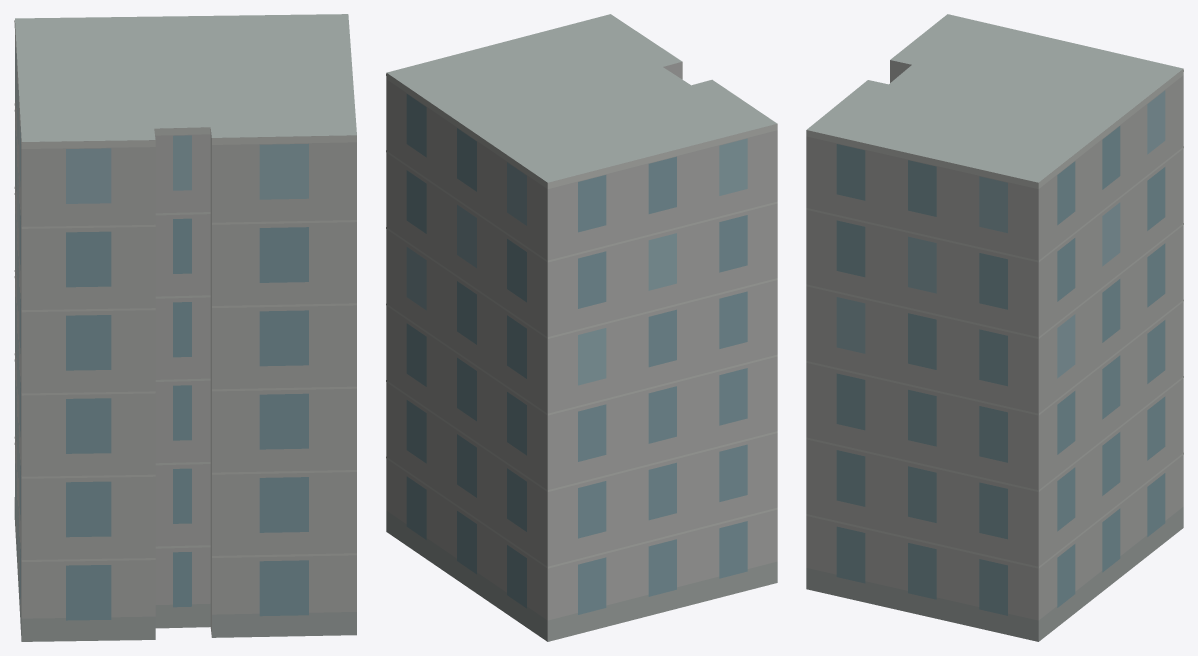
The model's file is survey-upis-32797982.glb.
3 renders of one model, left to right at view 1: azimuth 30°, elevation 25°; view 2: azimuth 150°, elevation 25°; view 3: azimuth 270°, elevation 25°, orthographic. The views are drawn at different scales.
Visible parts, largest first — view 1: survey-upis-32797982.tmp; view 2: survey-upis-32797982.tmp; view 3: survey-upis-32797982.tmp.
Part boxes in pixels (x1,y1,x2,y2): survey-upis-32797982.tmp: (14,14,356,641); survey-upis-32797982.tmp: (386,14,777,641); survey-upis-32797982.tmp: (806,14,1183,641).
Bounding box in the file's own units: 13.65 × 17.3 × 12.91.
